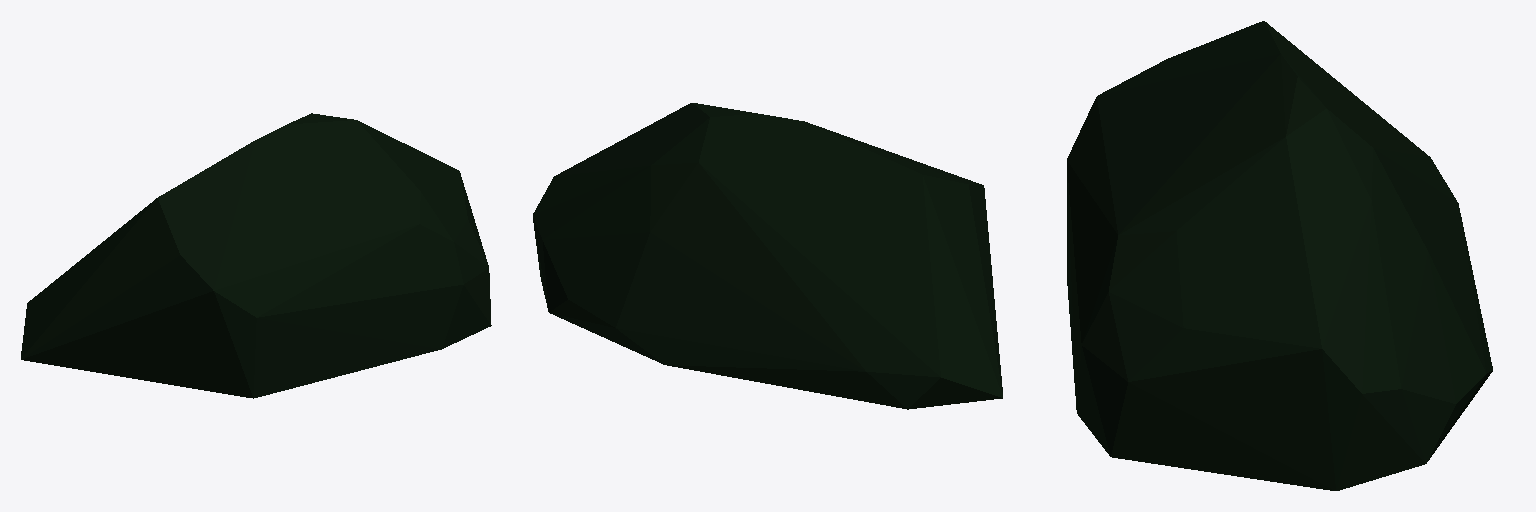
The robot description file, URDF, robot "obj_01":
<?xml version="1.0"?>
<robot name="obj_01">
  <!-- dslr camera: plastic, 561 g. Written by Darius 0.2.0. Link frame: +z up, origin at the capture-time bounding-box center; place it at the pose in world.json -->
  <mujoco>
    <compiler meshdir="../meshes/" discardvisual="true" balanceinertia="true" fusestatic="false" />
  </mujoco>
  <link name="obj_01">
    <inertial>
      <origin xyz="0.00661 -0.00246 -0.01182" rpy="0 0 0" />
      <mass value="0.5611" />
      <inertia ixx="0.000474796" ixy="-2.96916e-06" ixz="-9.49841e-06" iyy="0.0010381" iyz="1.75475e-05" izz="0.00118884" />
    </inertial>
    <visual>
      <geometry>
        <mesh filename="../meshes/obj_01_visual.obj" />
      </geometry>
      <material name="obj_01_color">
        <color rgba="0.071 0.122 0.075 1" />
      </material>
    </visual>
    <collision name="obj_01">
      <geometry>
        <mesh filename="../meshes/obj_01.obj" />
      </geometry>
    </collision>
    <contact>
      <lateral_friction value="0.5" />
      <restitution value="0.15" />
    </contact>
  </link>
</robot>

--- Facts derived from the render (not from the file) ---
The picture shows the robot from 3 angles, left to right: view 1: azimuth 30°, elevation 25°; view 2: azimuth 150°, elevation 25°; view 3: azimuth 270°, elevation 25°; orthographic projection.
Model obj_01 with 1 links and 0 joints (none), rooted at obj_01, posed all joints at 0.
Links seen in each view (by area): view 1: obj_01; view 2: obj_01; view 3: obj_01.
Boxes of the visible links, x1=… form: obj_01: x1=21, y1=113, x2=491, y2=398; obj_01: x1=533, y1=103, x2=1002, y2=409; obj_01: x1=1067, y1=21, x2=1492, y2=490.
Size in the robot's own frame: 0.1814 by 0.1045 by 0.0754 metres.
1 mesh visuals loaded from 1 distinct referenced files (1 OBJ).
